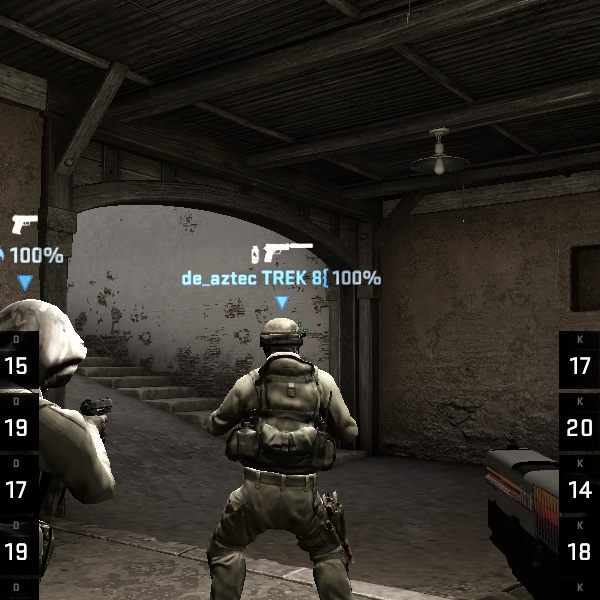ct_body: (195, 310, 386, 600)
ct_head: (0, 291, 91, 416), (249, 313, 312, 373)
